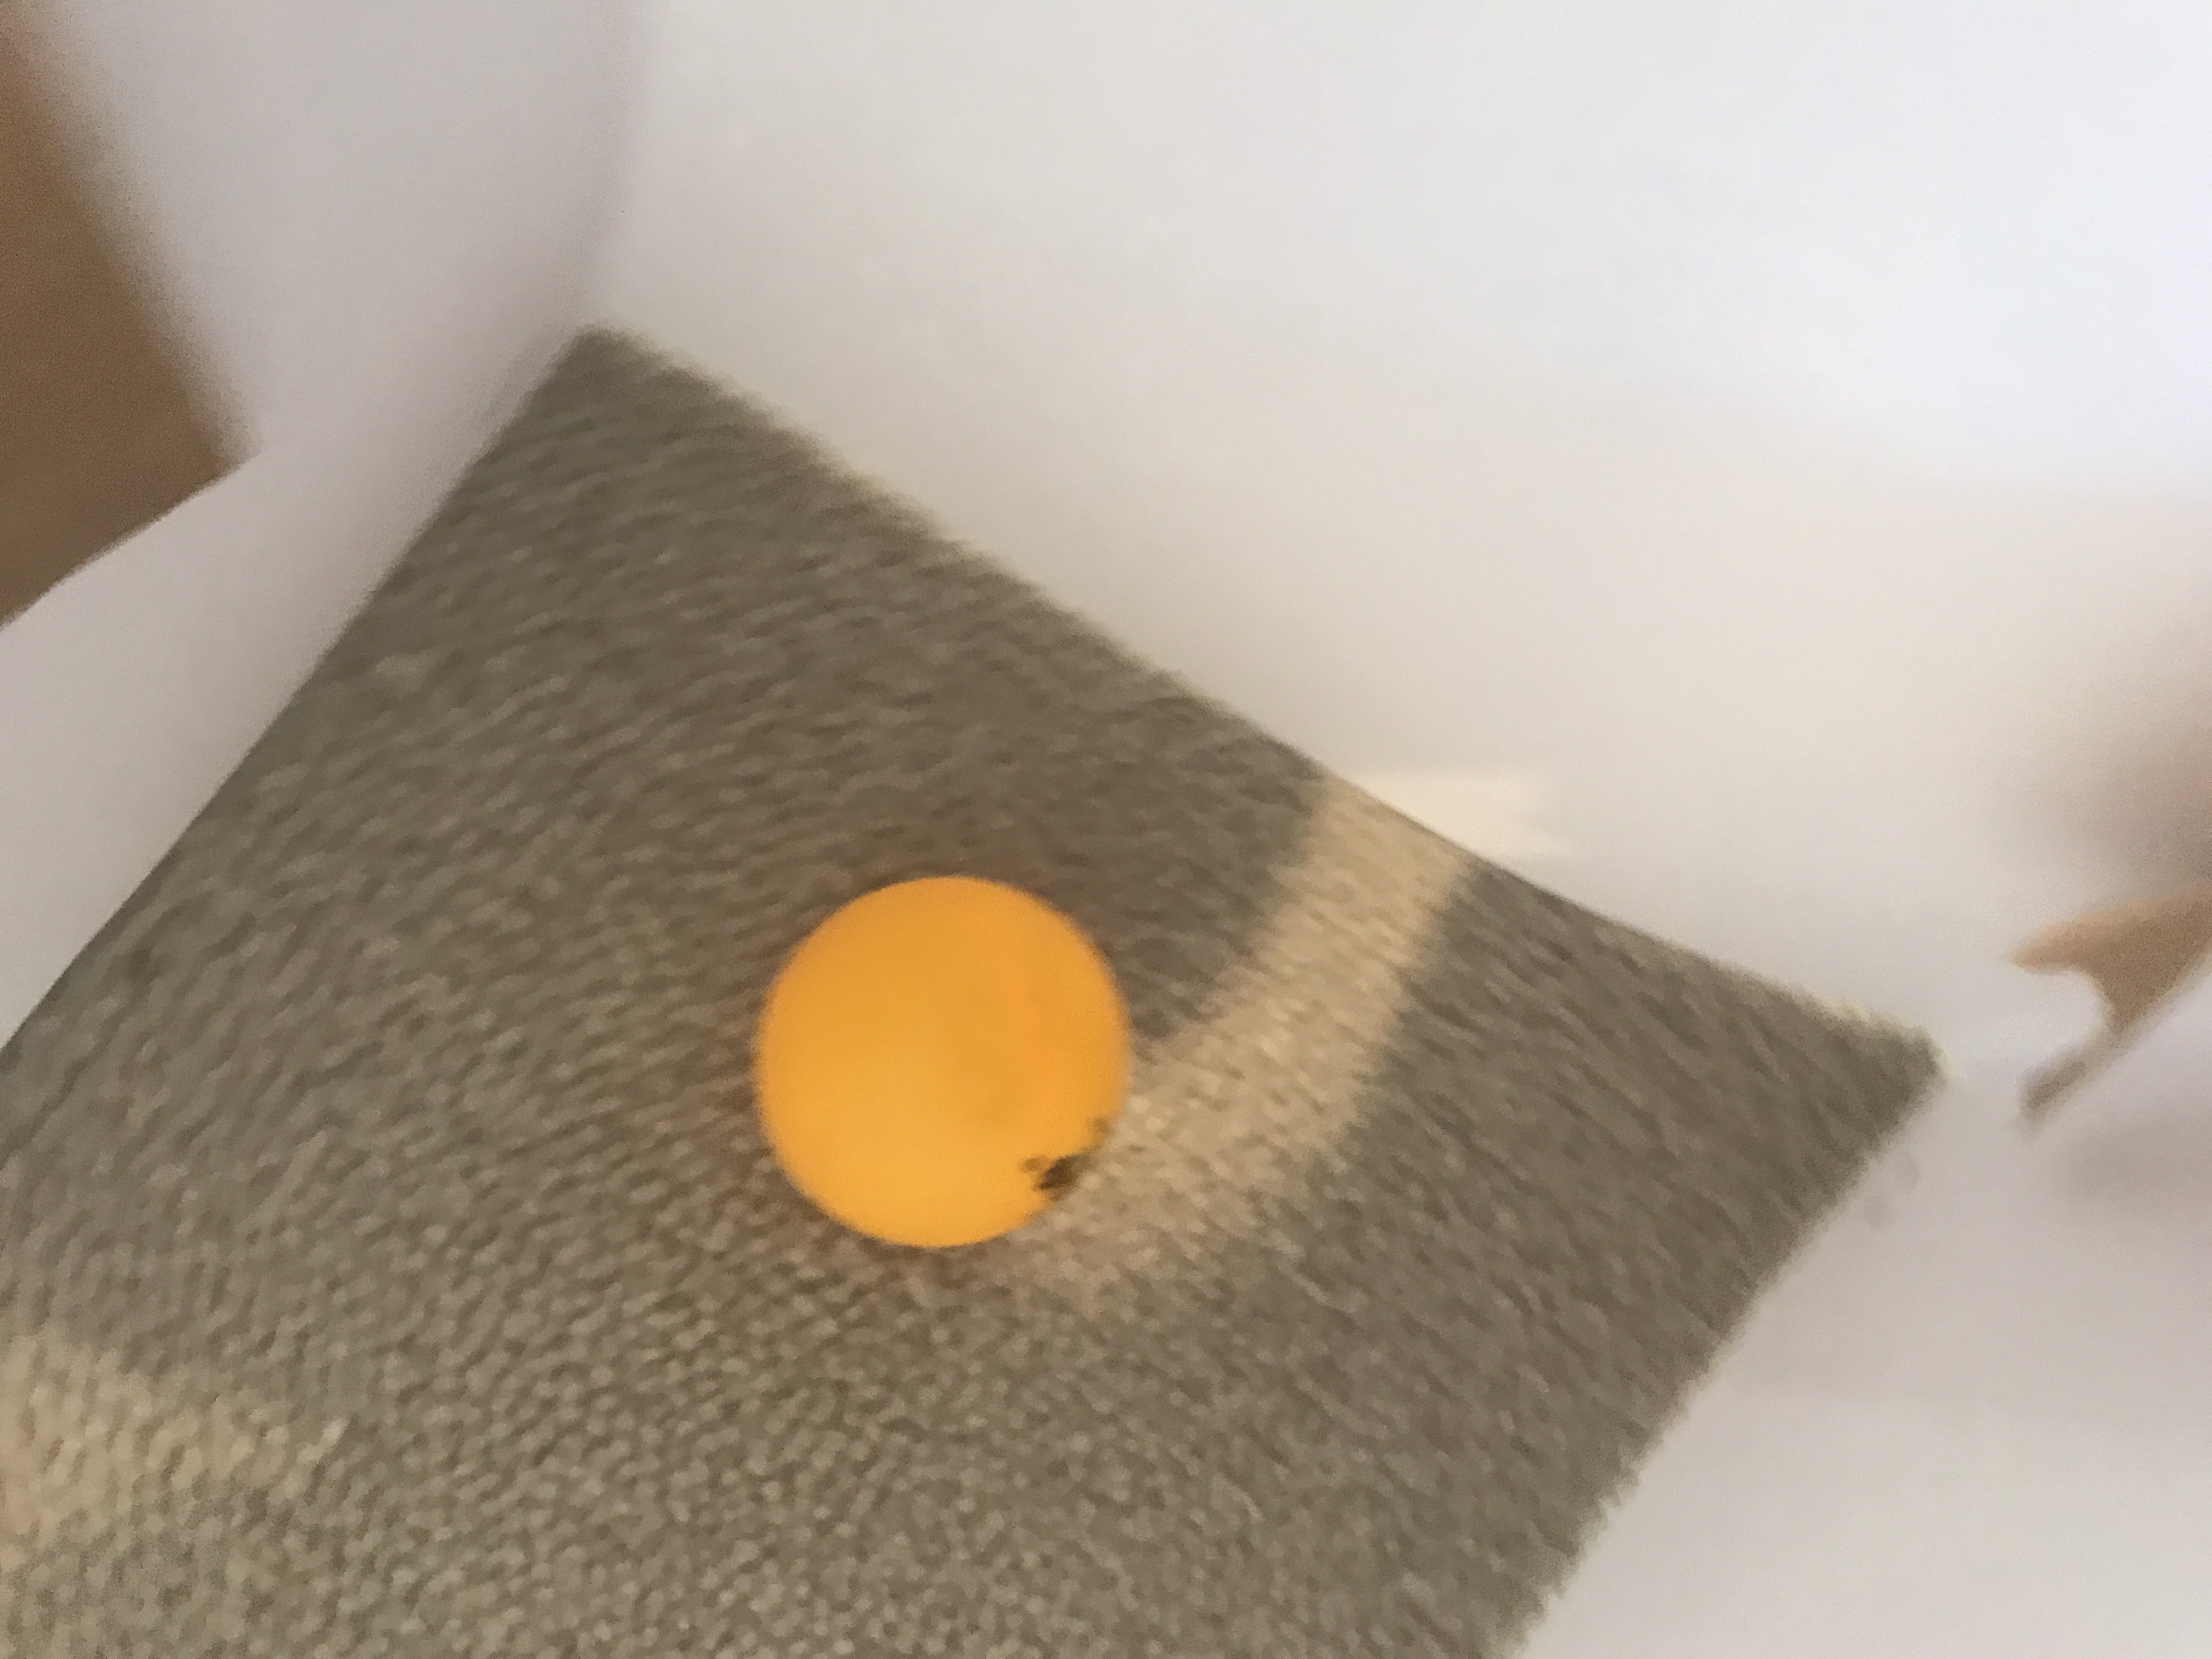pp: (752, 871, 1146, 1260)
